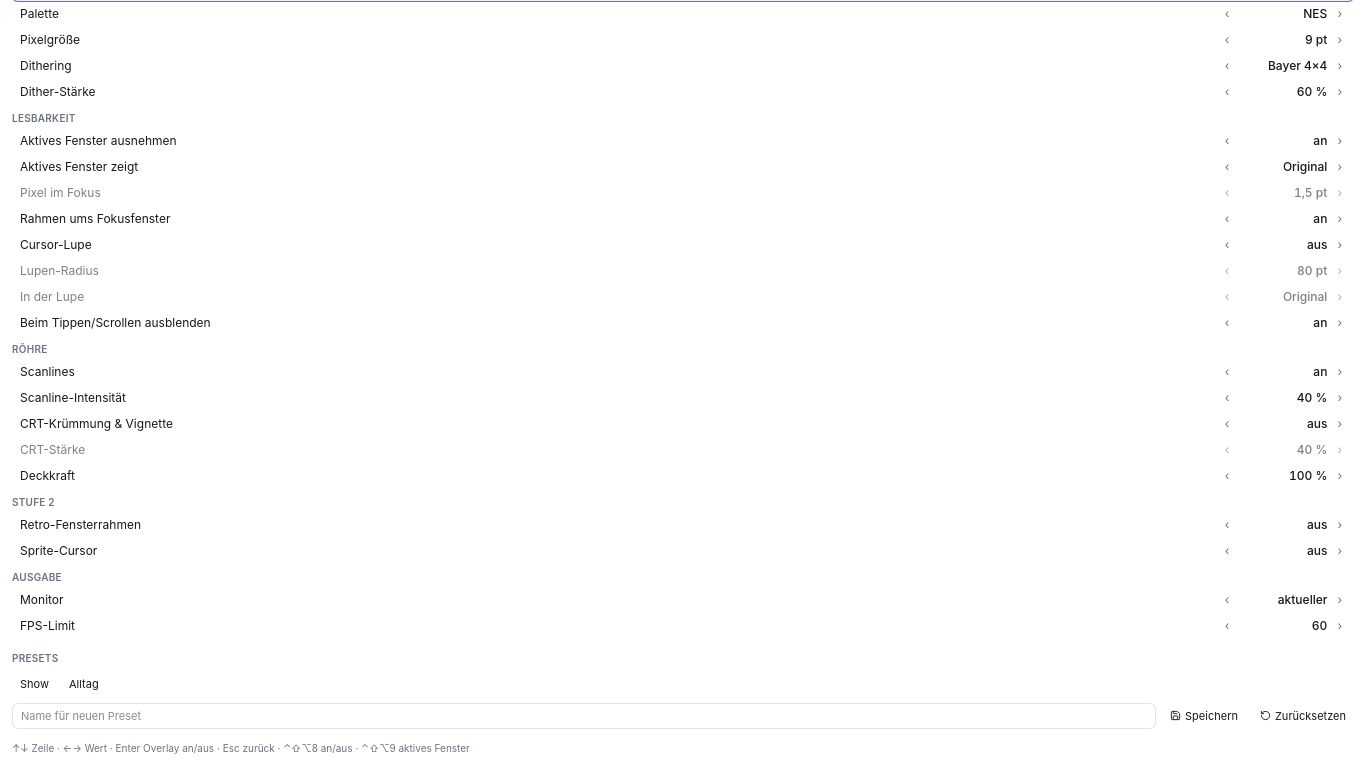
Test: RetroPanel › reset restores the active mode's defaults
The width and height of the screenshot is (1366, 768).
(page scrolled)
Click the button "Zurücksetzen".
click(1303, 716)  # box [1252,704,1354,728]
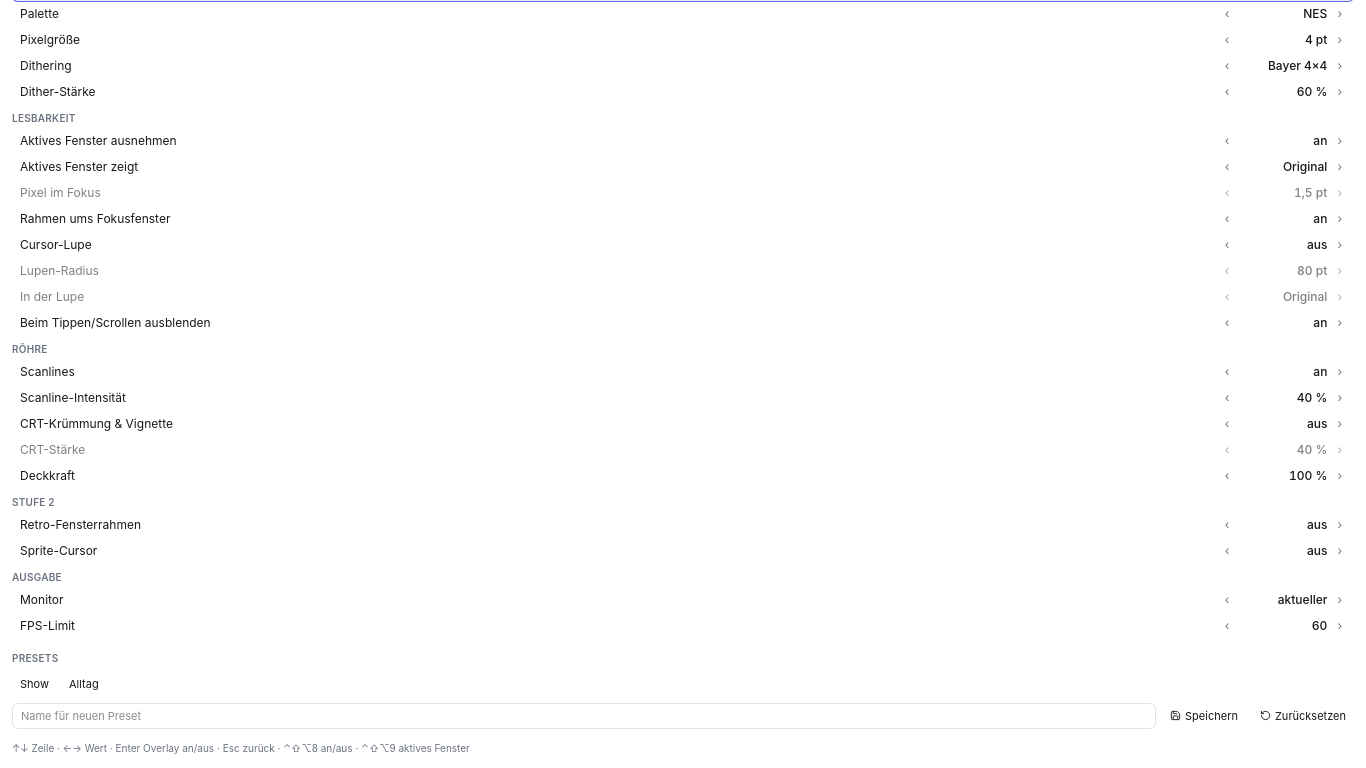
Expected: the text "4 pt" is shown, [1305,32,1327,47]
